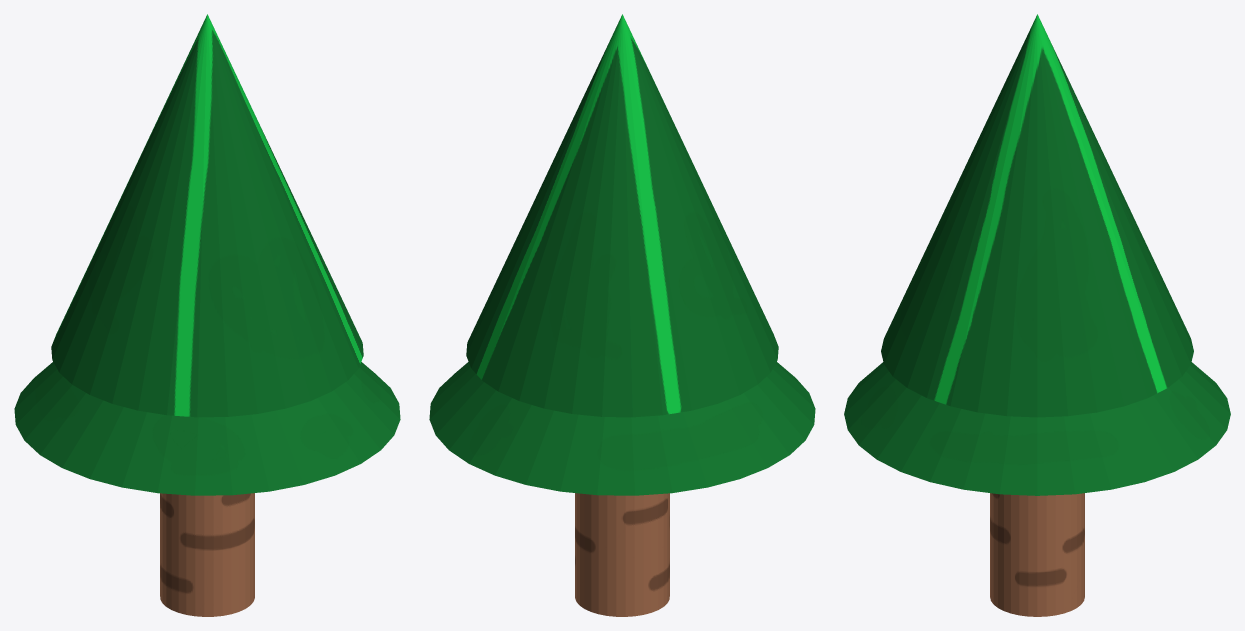
File: TexturedTree.glb
3 views of the same model, side by side, from view 1: azimuth 30°, elevation 25°; view 2: azimuth 150°, elevation 25°; view 3: azimuth 270°, elevation 25° (orthographic).
Visible parts, largest first — view 1: node_id8, node_id11, node_id5; view 2: node_id8, node_id11, node_id5; view 3: node_id8, node_id11, node_id5.
Part boxes in pixels (x1,y1,x2,y2): node_id8: [51, 14, 363, 417]; node_id11: [14, 362, 400, 495]; node_id5: [160, 493, 254, 616]; node_id8: [466, 14, 778, 417]; node_id11: [429, 362, 815, 495]; node_id5: [575, 493, 669, 616]; node_id8: [881, 14, 1193, 417]; node_id11: [844, 362, 1230, 495]; node_id5: [990, 493, 1084, 616].
Bounding box in the file's own units: 0.308 × 0.512 × 0.308.
3 materials, 3 textured.
